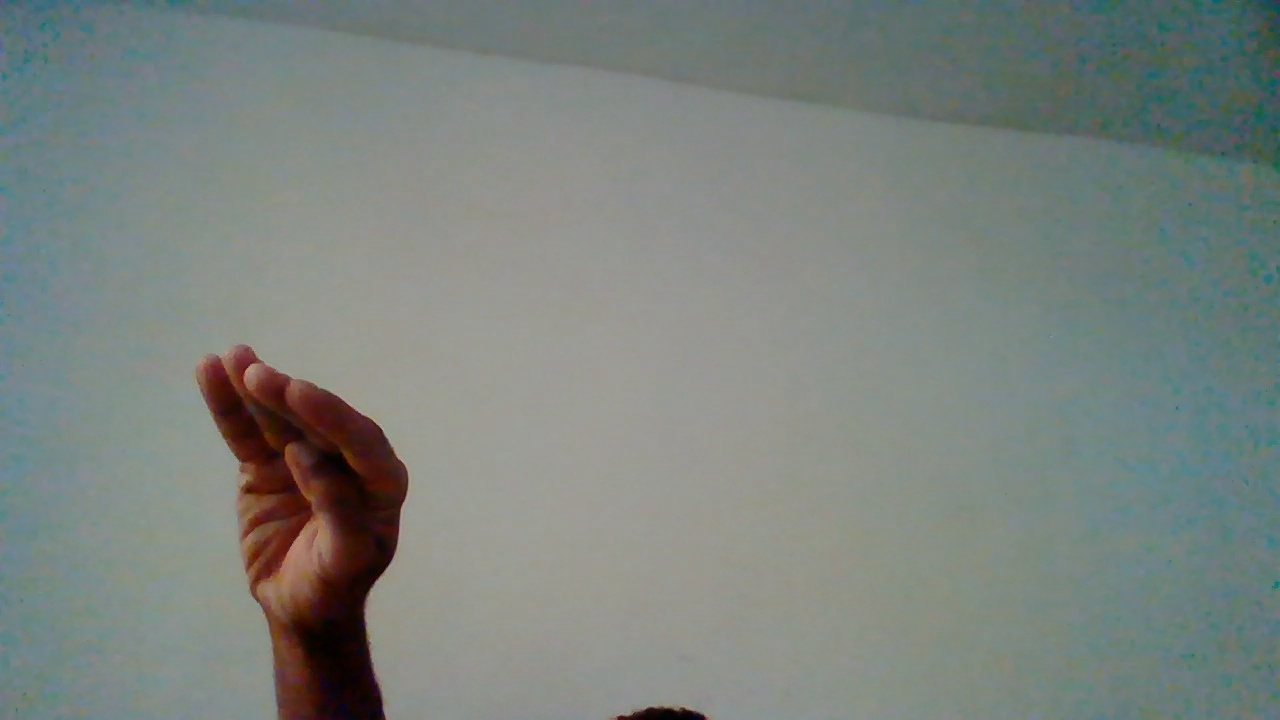me: (184, 339, 410, 720)
